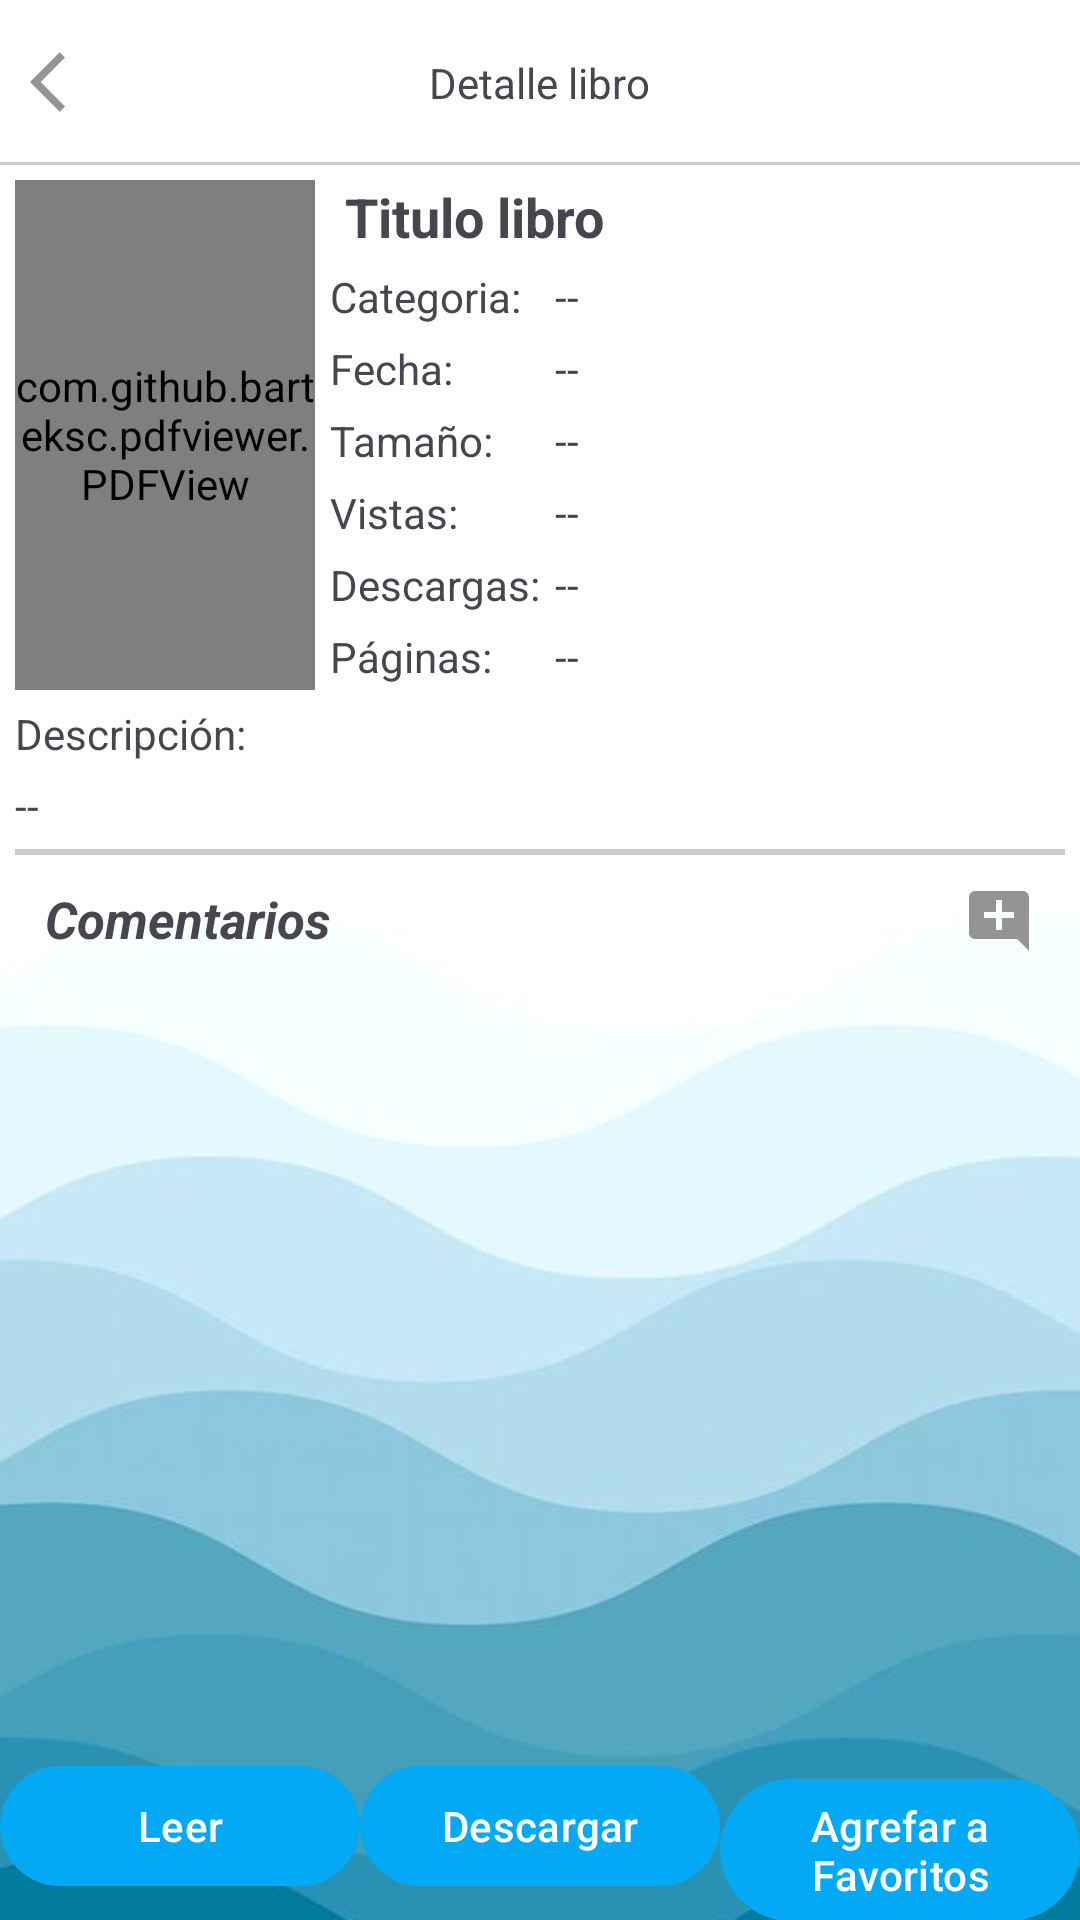

Icons on this 1080 x 1920 Android screen, each with the point to tap as (x,y):
agregar comentario: (999,921)
regresar: (47,82)
